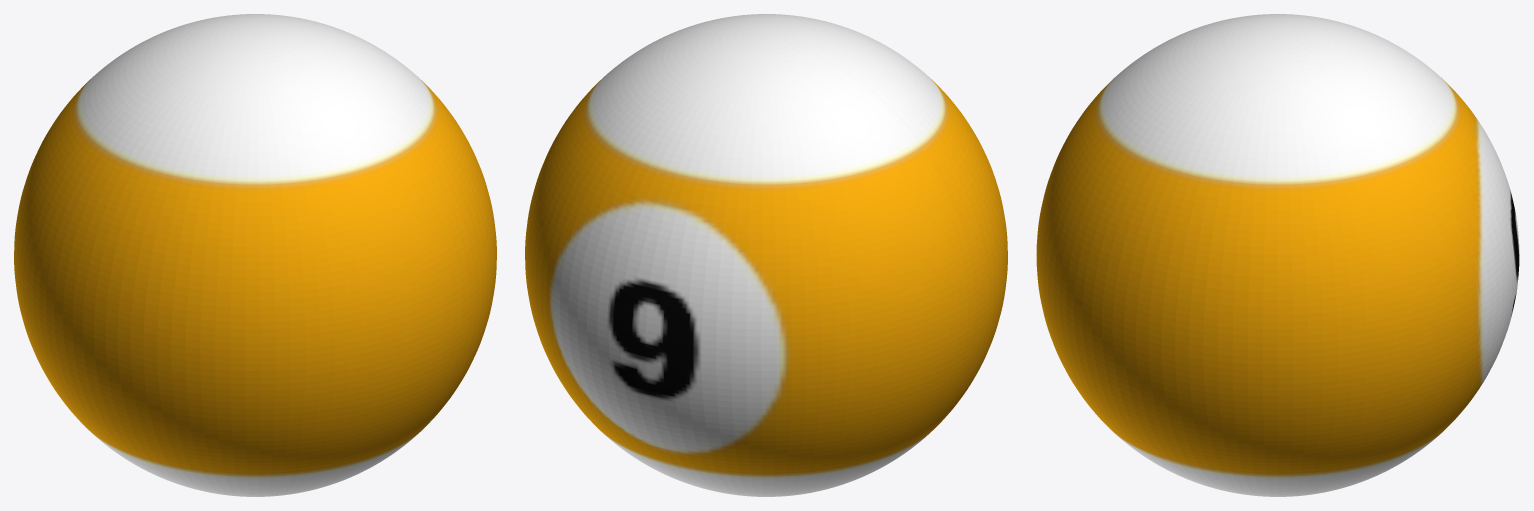
File: NineBall.obj
The picture shows the model from 3 angles, left to right: view 1: azimuth 30°, elevation 25°; view 2: azimuth 150°, elevation 25°; view 3: azimuth 270°, elevation 25°; orthographic projection.
Visible parts, largest first — view 1: Sphere; view 2: Sphere; view 3: Sphere.
Boxes of the visible parts, x1=… form: Sphere: x1=14, y1=14, x2=496, y2=496; Sphere: x1=525, y1=14, x2=1007, y2=496; Sphere: x1=1036, y1=14, x2=1519, y2=496.
Bounding box in the file's own units: 2 × 2 × 2.
